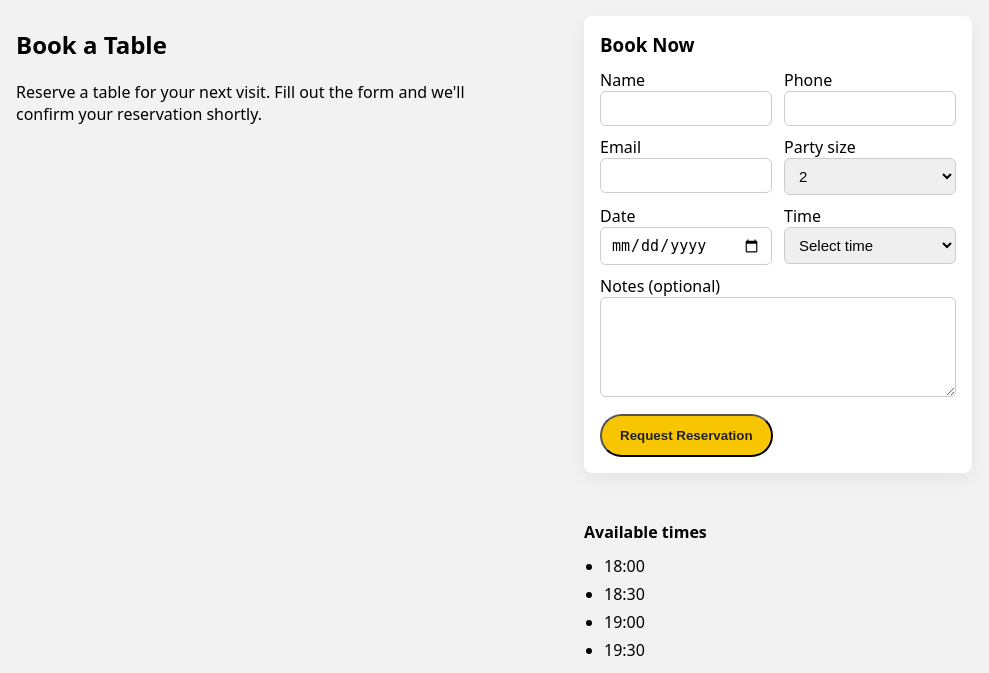
Scenario: reserving a time removes it from available times list
Expected: the list item "18:00" is shown, [604,555,645,577]
Note: fill out and submit the booking form
Type "Bob" into the field labelled "Name".
click(686, 108); type("Bob")  # box [600,91,772,126]
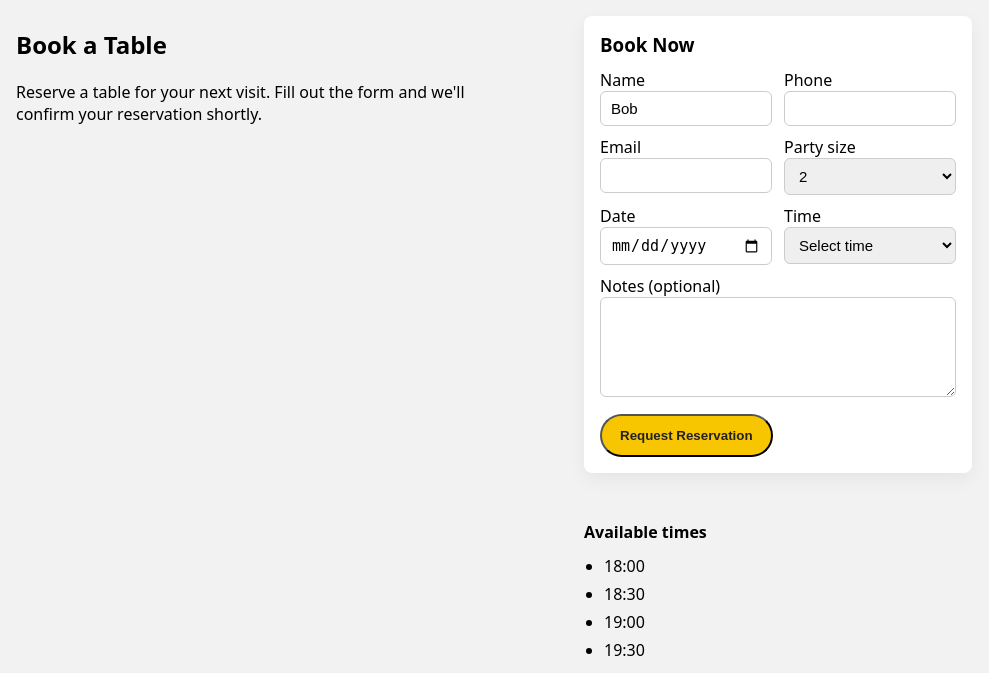
Type "b@b.com" into the field labelled "Email".
click(686, 176); type("b@b.com")  # box [600,158,772,193]
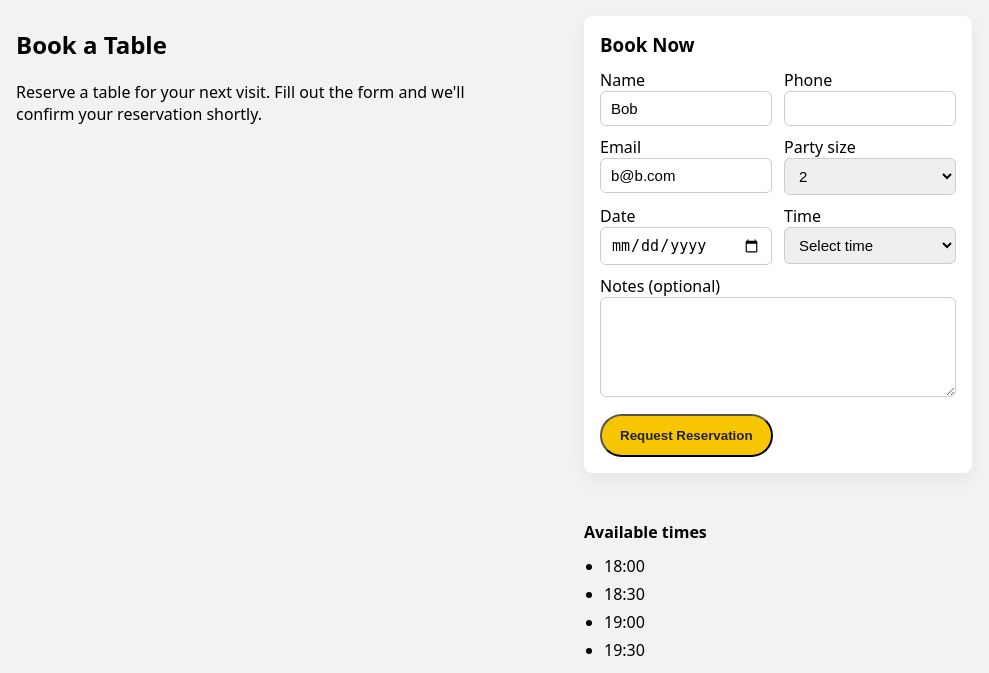
Type "2025-12-25" into the date field labelled "Date".
click(686, 246); type("2025-12-25")  # box [600,227,772,265]
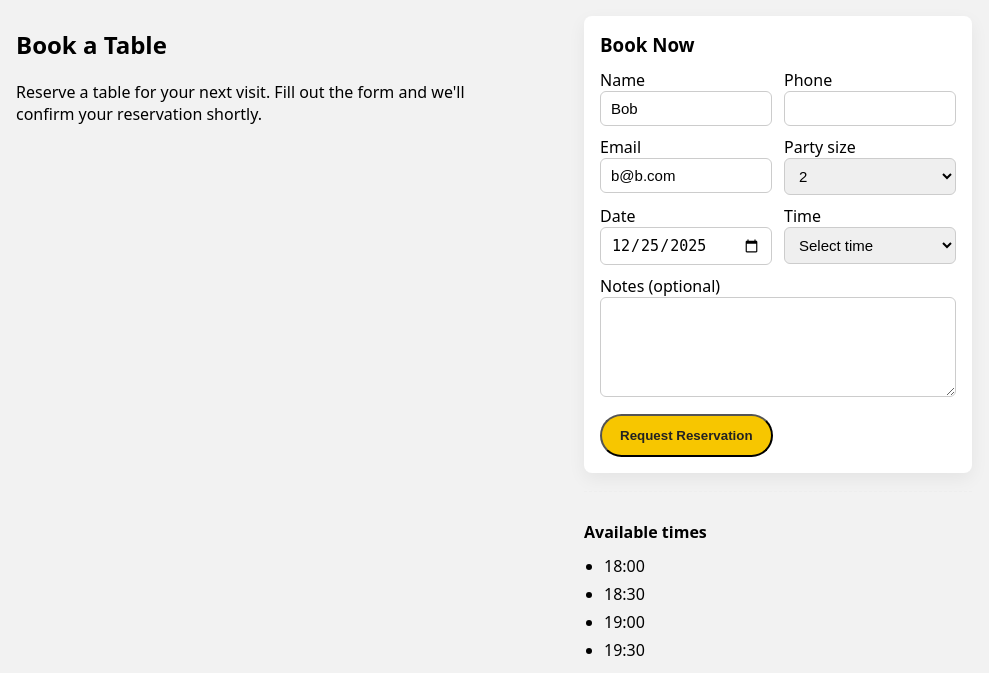
Select "18:00" in the dropdown labelled "Time" at (870, 246), box [784,227,956,264]
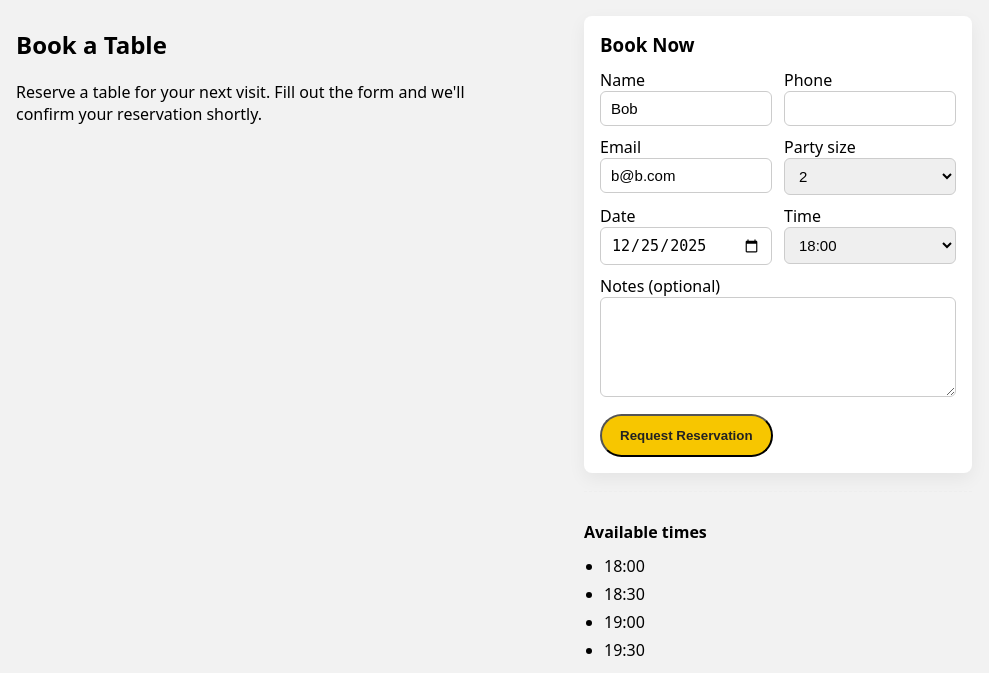
Click the button "Request Reservation".
click(686, 436)  # box [600,414,773,457]
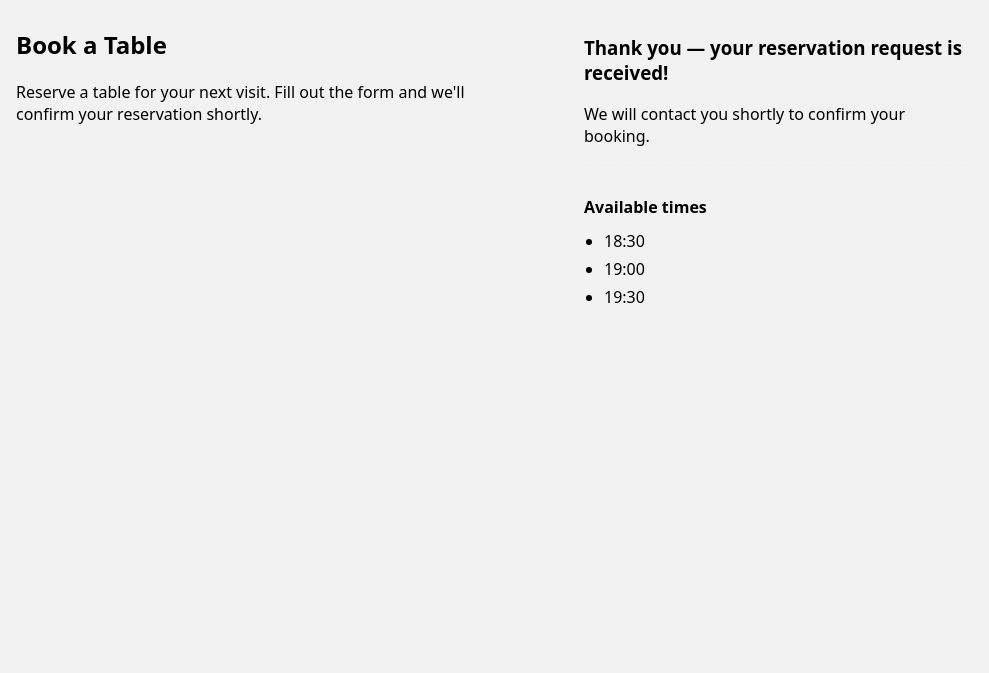
Expected: the list item "18:00" is gone
